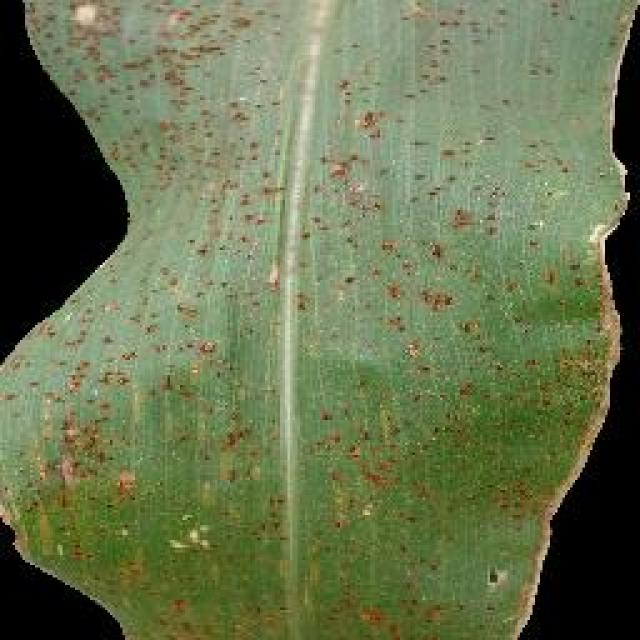Corn Common Rust: (58, 16, 545, 622)
